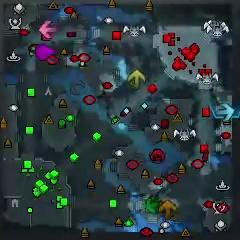p3: (35, 45, 55, 60)
x1: (40, 20, 56, 39)
x2: (128, 69, 145, 89)
x3: (217, 103, 234, 120)
x4: (146, 197, 161, 214)
x5: (160, 200, 177, 218)
